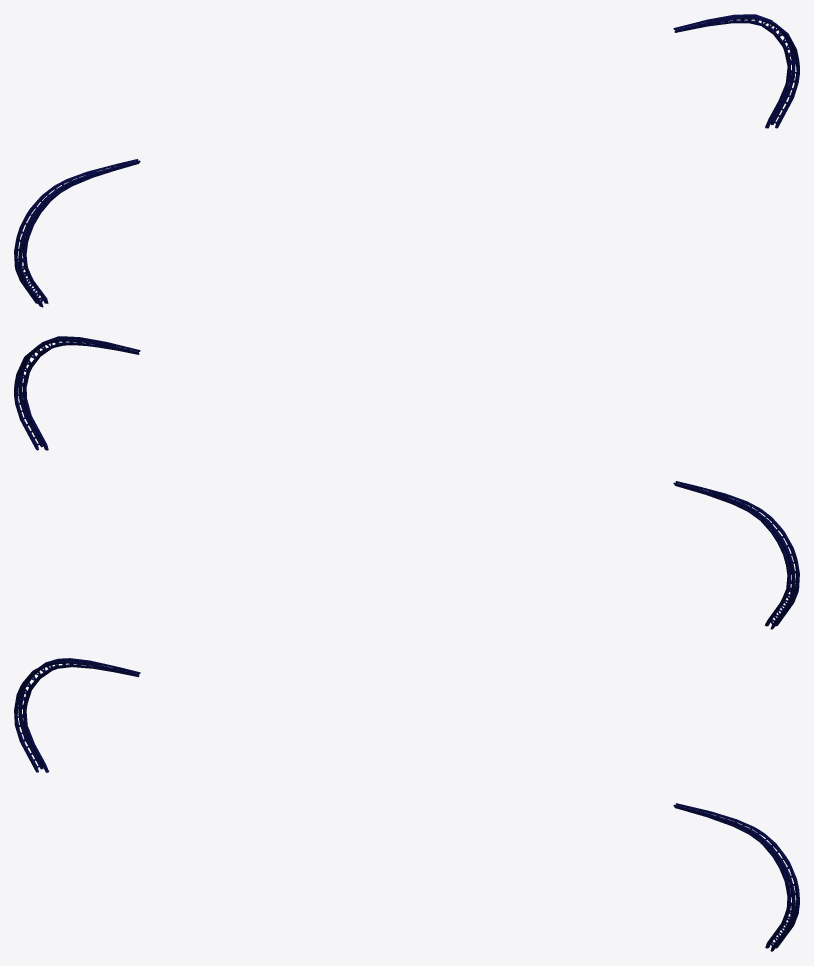
File: Al_Nasar_Football_Stadium_NurbsPath_015.FBX
3 renders of one model, top to bottom at view 1: azimuth 30°, elevation 25°; view 2: azimuth 150°, elevation 25°; view 3: azimuth 330°, elevation 25°, orthographic.
Parts seen in each view (by area): view 1: Al_Nasar_Football_Stadium_NurbsPath_015; view 2: Al_Nasar_Football_Stadium_NurbsPath_015; view 3: Al_Nasar_Football_Stadium_NurbsPath_015.
Part boxes in pixels (x1=…): Al_Nasar_Football_Stadium_NurbsPath_015: x1=14, y1=14, x2=799, y2=307; Al_Nasar_Football_Stadium_NurbsPath_015: x1=14, y1=336, x2=799, y2=629; Al_Nasar_Football_Stadium_NurbsPath_015: x1=14, y1=658, x2=799, y2=951.
Size of the model in its own units: 26022 by 373 by 3869.
